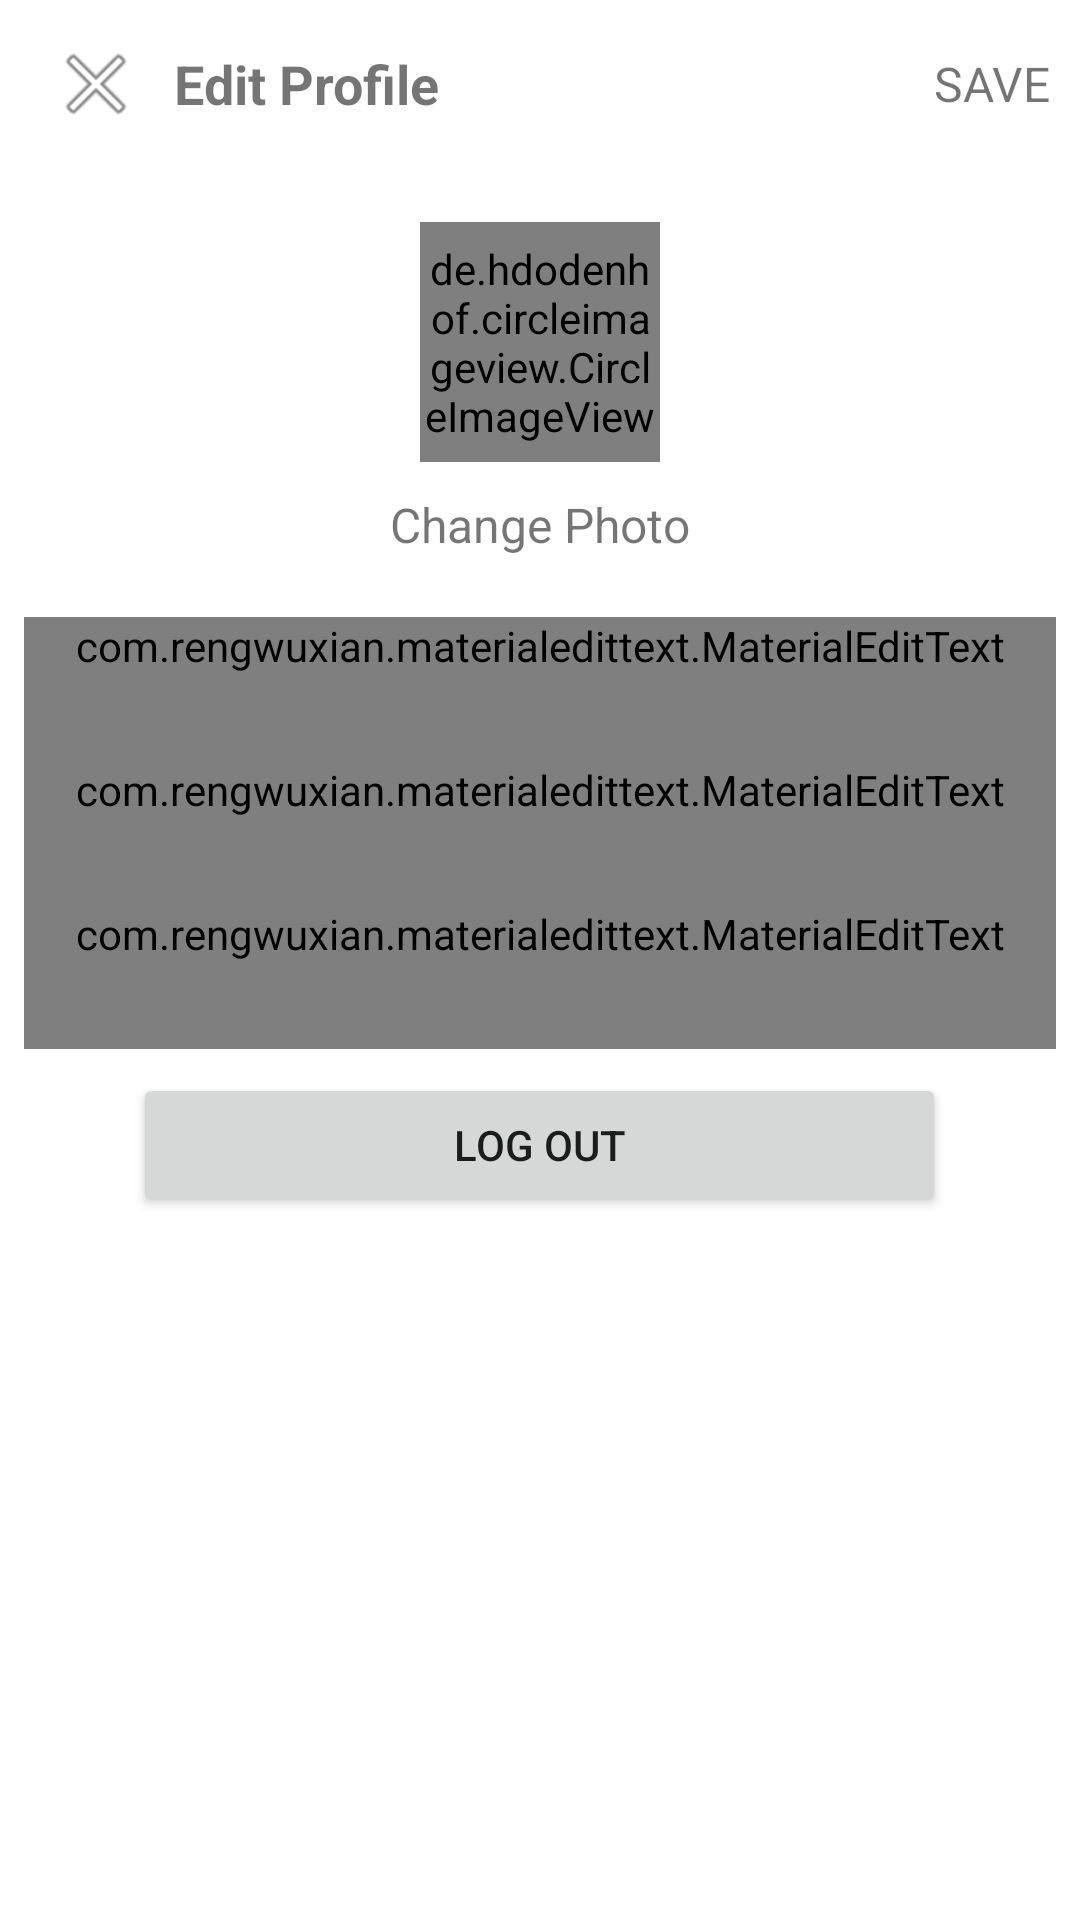

Locate icon controls on the screen. Image size 1080px×1920px, boxes as (x1,y1,x2,y2).
close clear cancel: (66,54,126,114)
